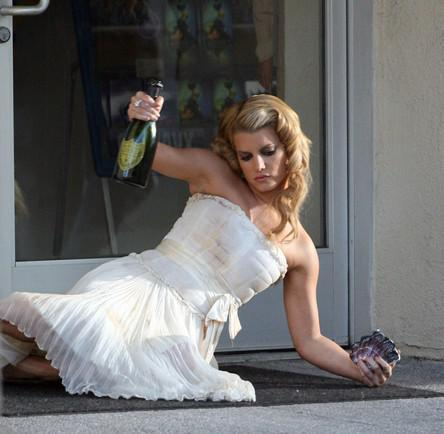Drunk: (232, 133, 286, 186)
